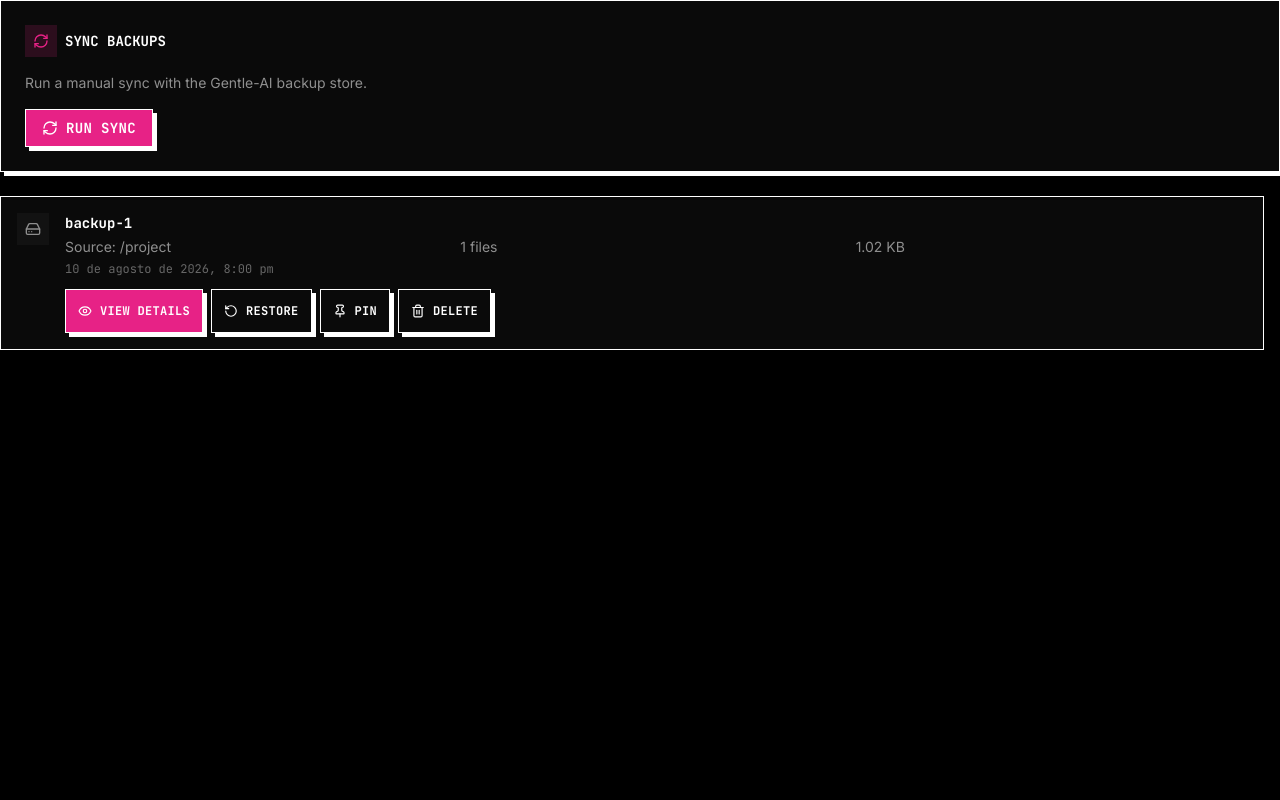
Test: BackupsClient notification integration › loads the selected backup detail without navigation
Click the button "View details" at (134, 311), box [65,289,203,333]
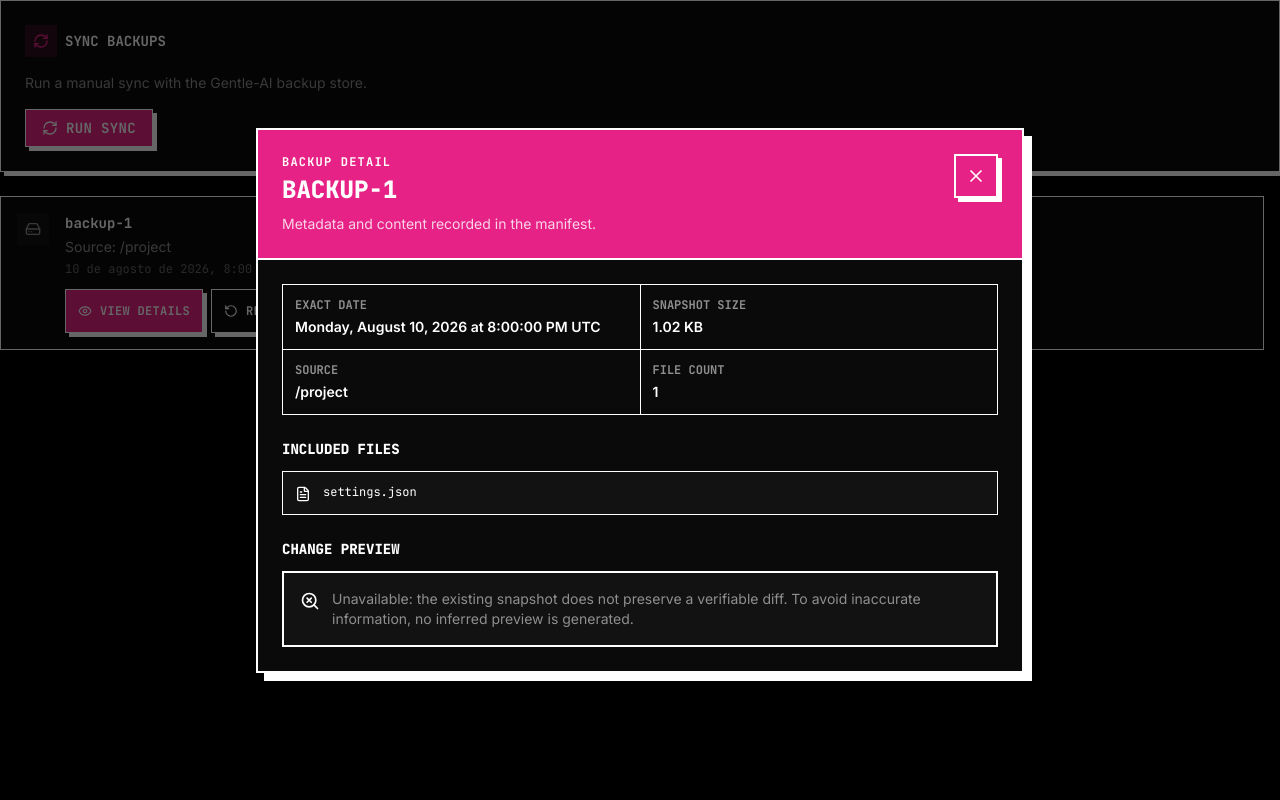
Expected: the dialog "backup-1" is shown, [256,128,1024,672]
Expected: the text "settings.json" is shown, [323,484,417,500]
